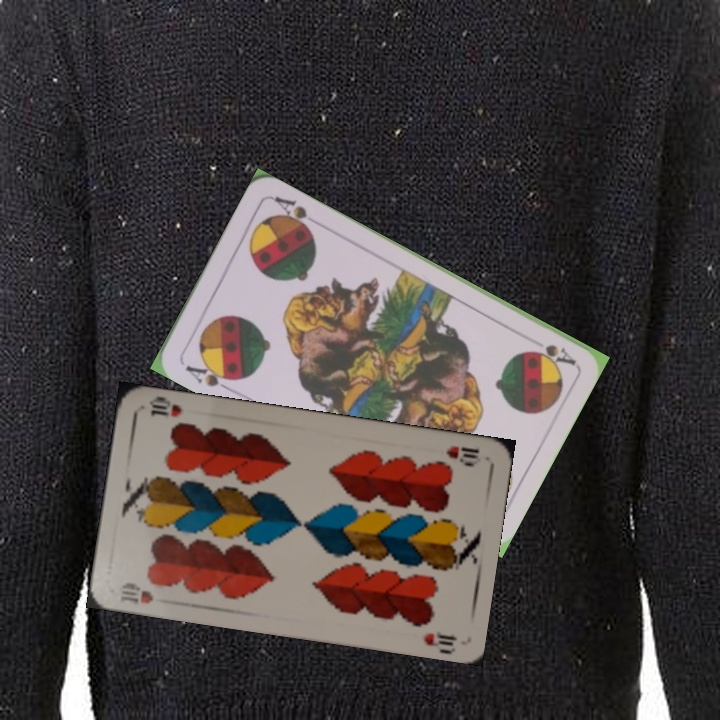H10: (442, 441, 483, 469), (116, 578, 156, 606)
SA: (181, 357, 239, 394), (526, 340, 578, 368)
